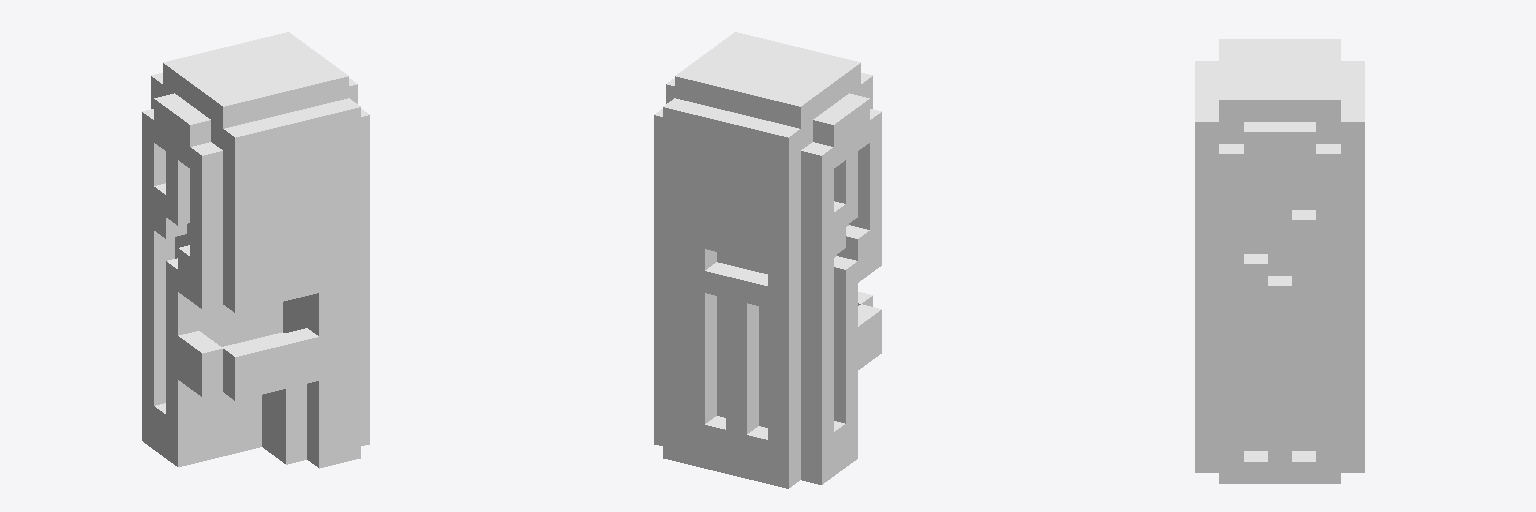
The model's file is VendingMachine.obj.
3 renders of one model, left to right at view 1: azimuth 30°, elevation 25°; view 2: azimuth 150°, elevation 25°; view 3: azimuth 270°, elevation 25°, orthographic.
Visible parts, largest first — view 1: object 1; view 2: object 1; view 3: object 1.
Boxes of the visible parts, x1,y1,x2,y2 form: object 1: [142, 32, 369, 468]; object 1: [654, 32, 881, 488]; object 1: [1195, 39, 1364, 483].
Size of the model in its own units: 0.8 by 1.7 by 0.7.